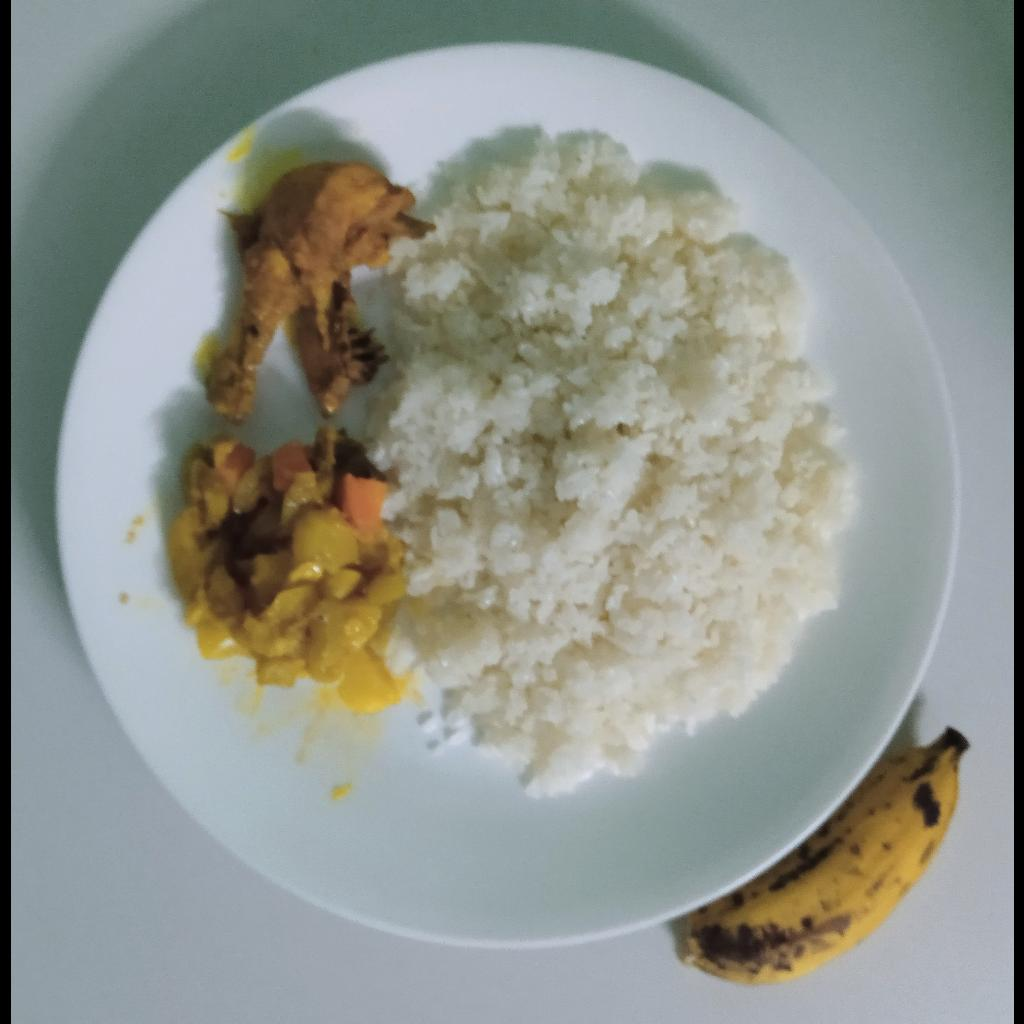banana: (682, 727, 966, 986)
chicken: (204, 163, 424, 427)
rice: (367, 130, 855, 801)
vegetable: (168, 426, 408, 721)
